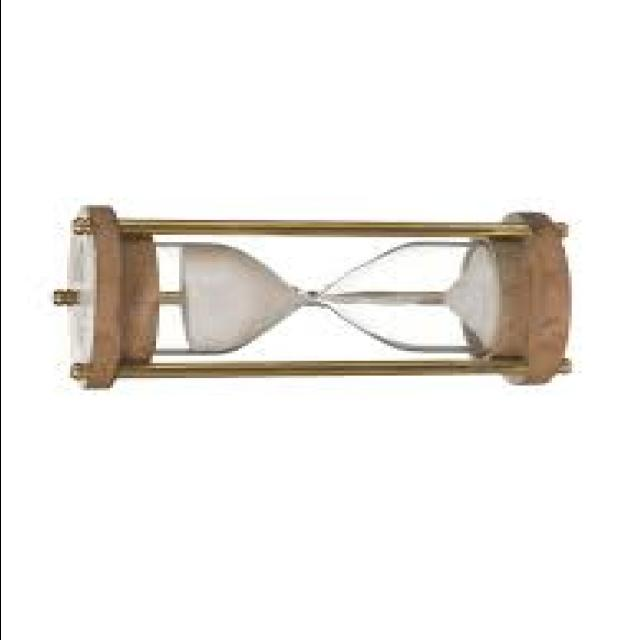clock: (38, 191, 580, 403)
